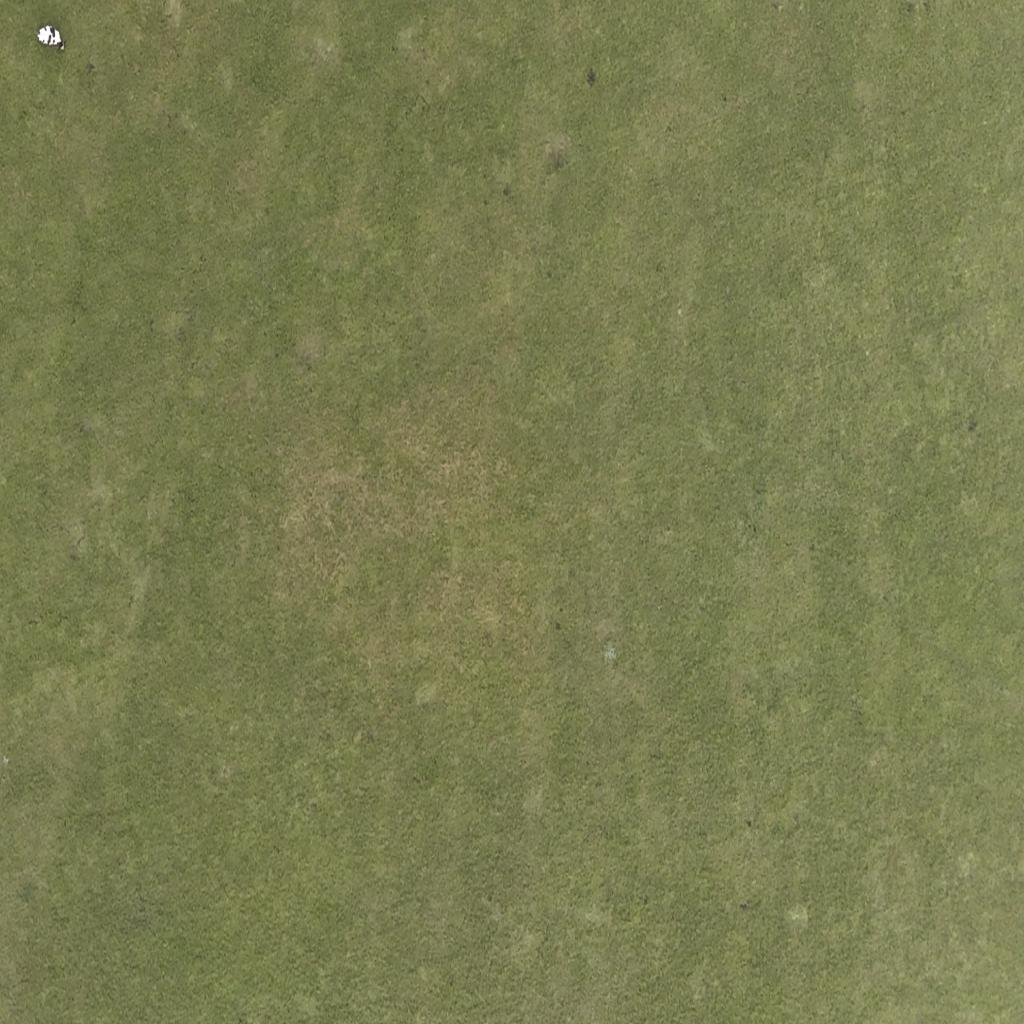cow: (36, 22, 66, 52)
